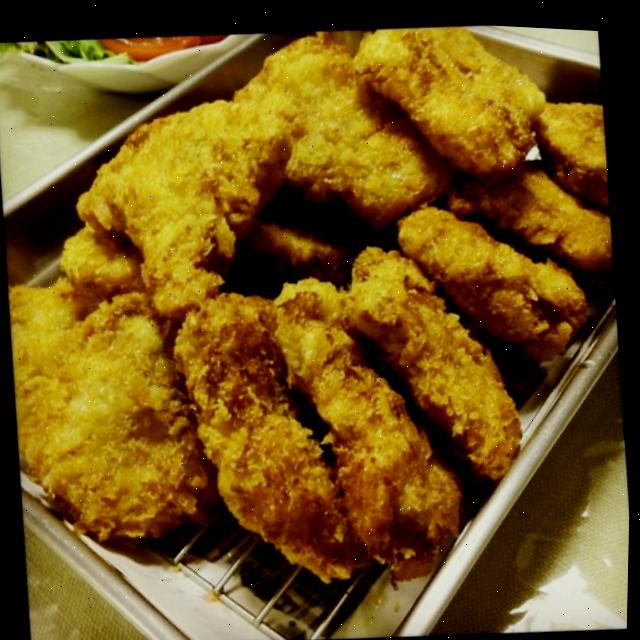牛肉菜式: (0, 1, 640, 639)
